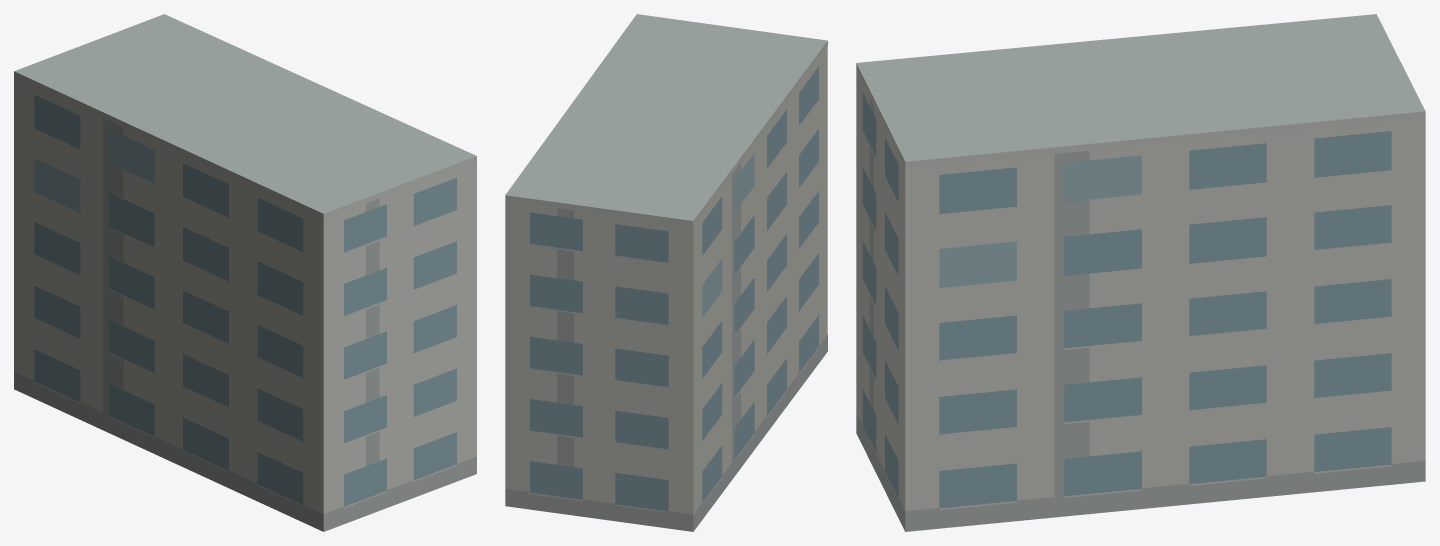
Rendered from survey-upis-32798967.glb.
3 views of the same model, side by side, from view 1: azimuth 30°, elevation 25°; view 2: azimuth 150°, elevation 25°; view 3: azimuth 270°, elevation 25° (orthographic). The views are drawn at different scales.
Visible parts, largest first — view 1: survey-upis-32798967.tmp; view 2: survey-upis-32798967.tmp; view 3: survey-upis-32798967.tmp.
Part boxes in pixels (box(x1,y1,x2,y2)): survey-upis-32798967.tmp: box(14, 14, 476, 531); survey-upis-32798967.tmp: box(505, 14, 827, 531); survey-upis-32798967.tmp: box(856, 14, 1425, 531).
Bounding box in the file's own units: 11.57 × 13.5 × 18.83.
